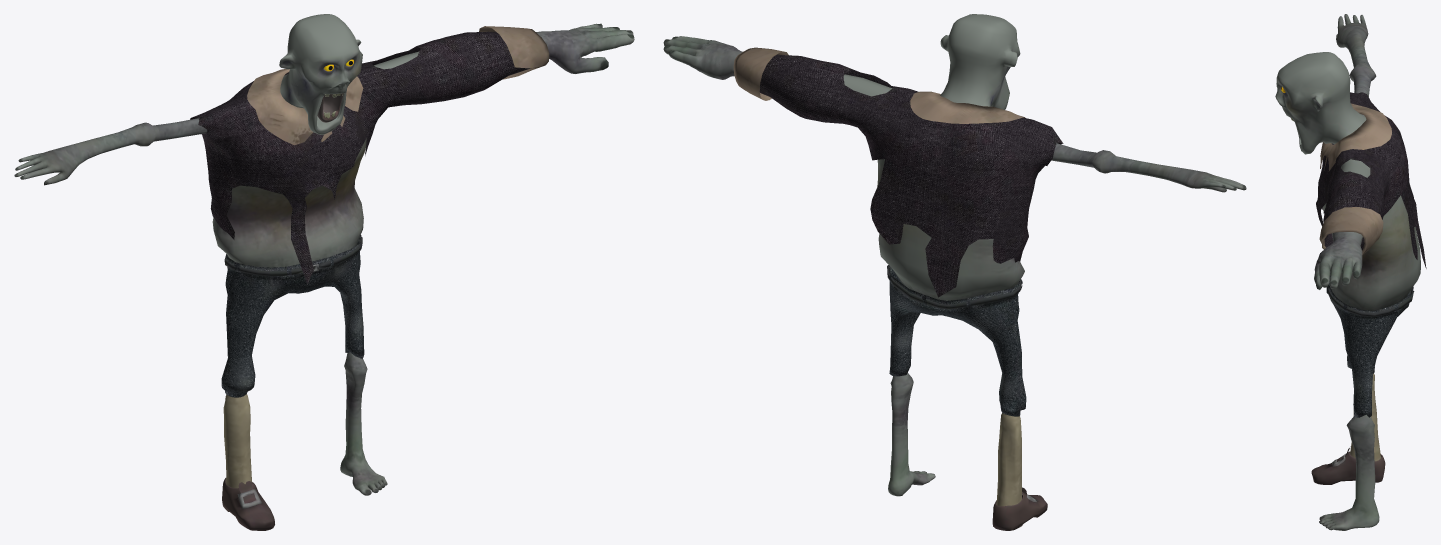
The picture shows the model from 3 angles, left to right: view 1: azimuth 30°, elevation 25°; view 2: azimuth 150°, elevation 25°; view 3: azimuth 270°, elevation 25°; orthographic projection. The views are drawn at different scales.
Visible parts, largest first — view 1: male1591.obj.000_cloth_0, male1591.obj.000_body_0; view 2: male1591.obj.000_cloth_0, male1591.obj.000_body_0; view 3: male1591.obj.000_body_0, male1591.obj.000_cloth_0.
Boxes of the visible parts, box(x1,y1,x2,y2) form: male1591.obj.000_cloth_0: box(190, 26, 549, 530); male1591.obj.000_body_0: box(14, 14, 634, 495); male1591.obj.000_cloth_0: box(733, 47, 1063, 530); male1591.obj.000_body_0: box(663, 14, 1246, 496); male1591.obj.000_body_0: box(1275, 14, 1420, 530); male1591.obj.000_cloth_0: box(1311, 92, 1426, 484).
Size of the model in its own units: 2.58 by 2 by 0.6106.
Materials: 4 (4 with a texture image).
